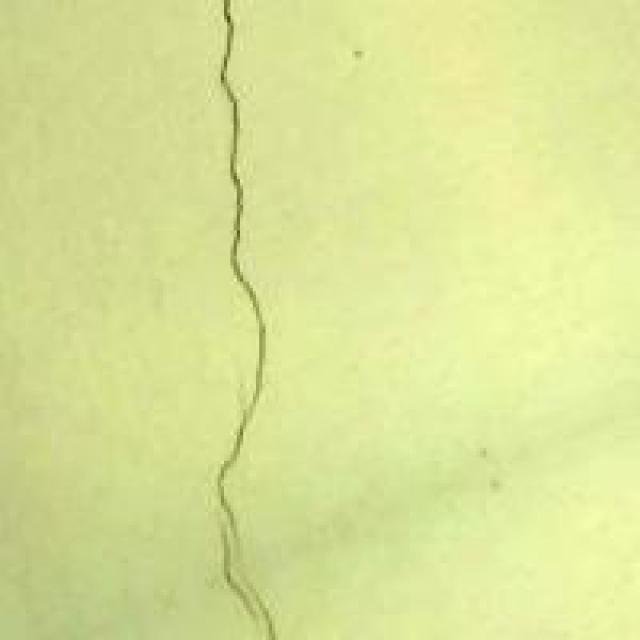crack: (144, 0, 323, 637)
